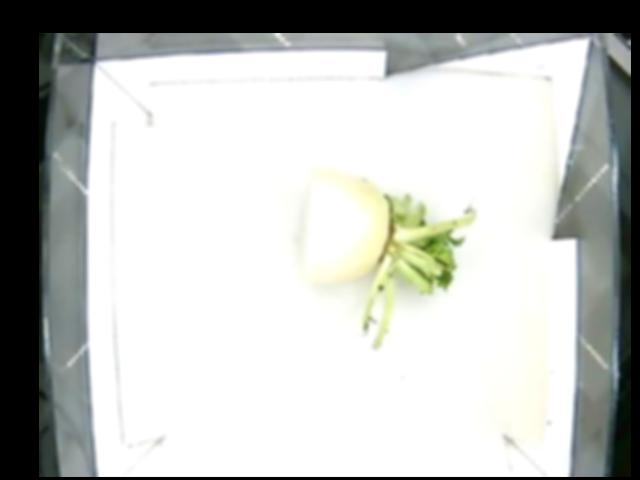Mooli: (302, 170, 467, 310)
